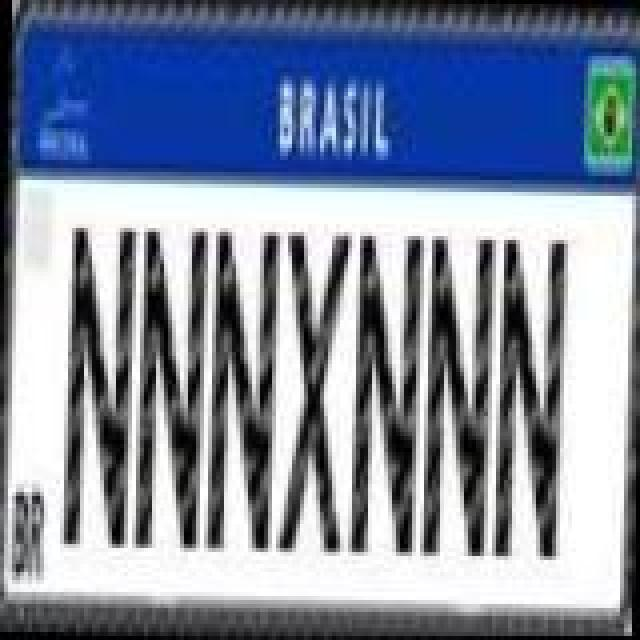N: (202, 218, 282, 558), (58, 220, 138, 548), (130, 222, 210, 550), (346, 228, 426, 556), (414, 230, 494, 558), (486, 232, 566, 560)
X: (274, 226, 354, 554)
